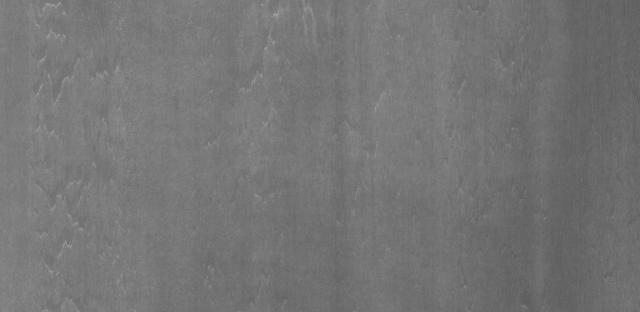silk_spot: (30, 34, 137, 276), (236, 2, 324, 161)
